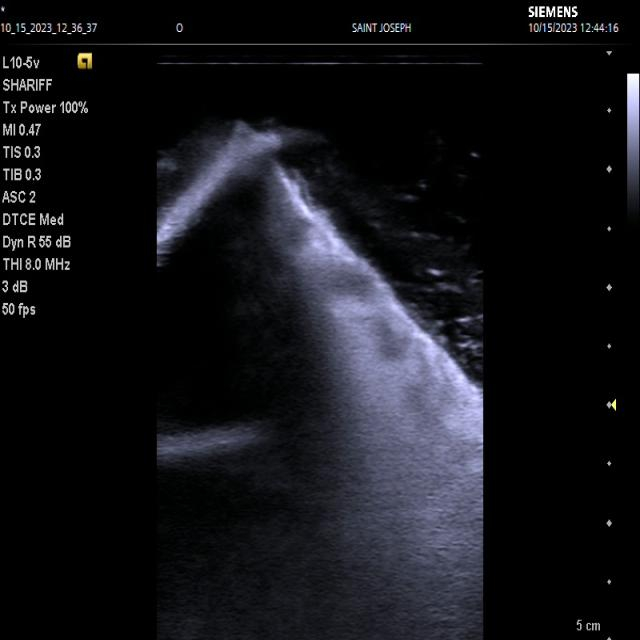tissue: (158, 129, 482, 640)
